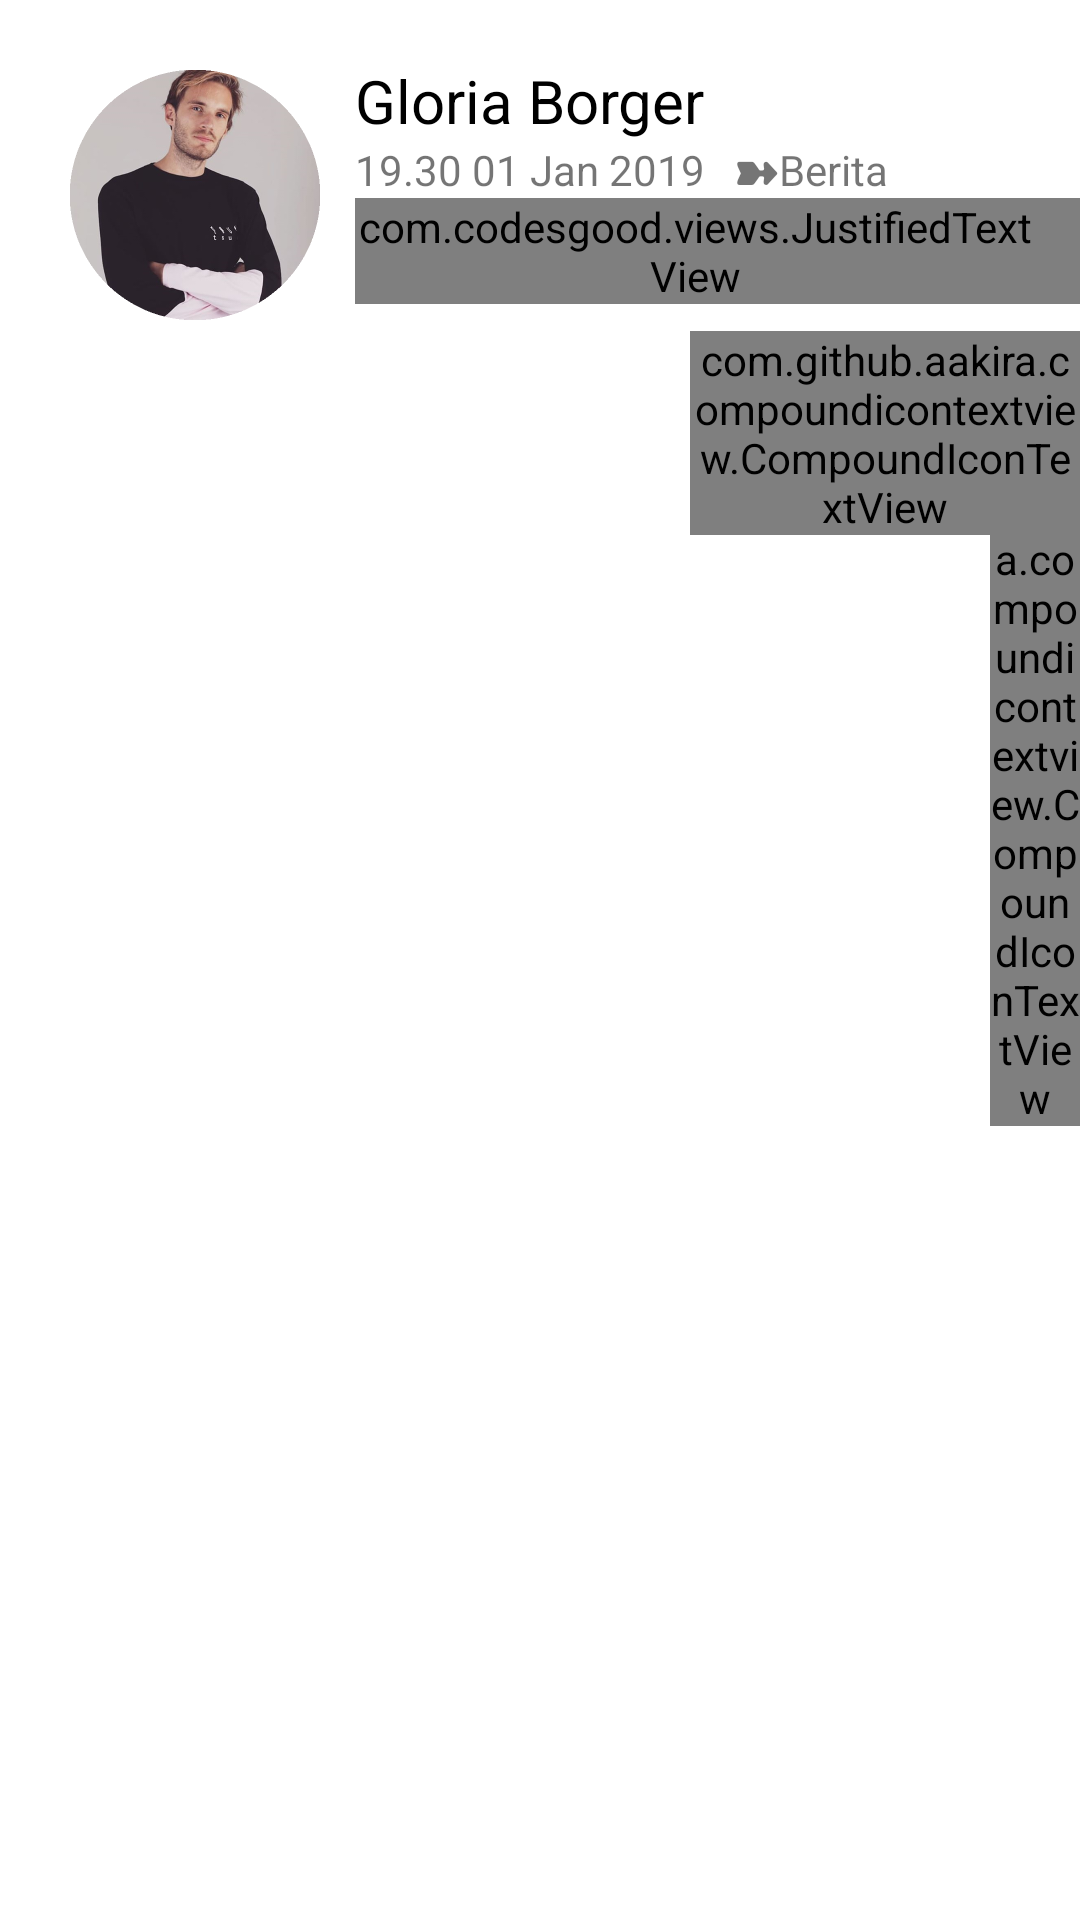

Screen size 1080x1920. Icon name, then its box in pixels as detection(x1, y1, x2, y2):
profile: detection(70, 70, 320, 320)
